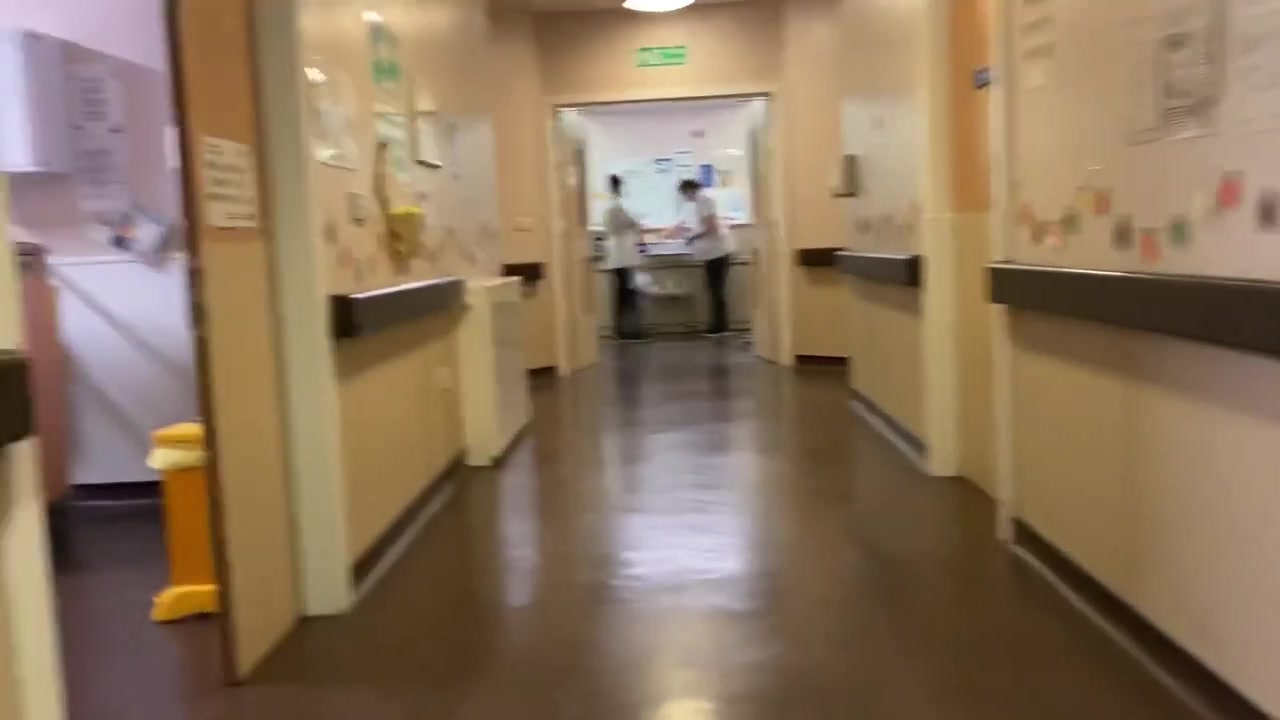hallway_assist_bar: (983, 259, 1280, 358), (330, 276, 465, 342), (832, 249, 920, 287)
staff: (661, 177, 736, 340), (600, 173, 650, 343)
waste_bin: (143, 420, 222, 623)
